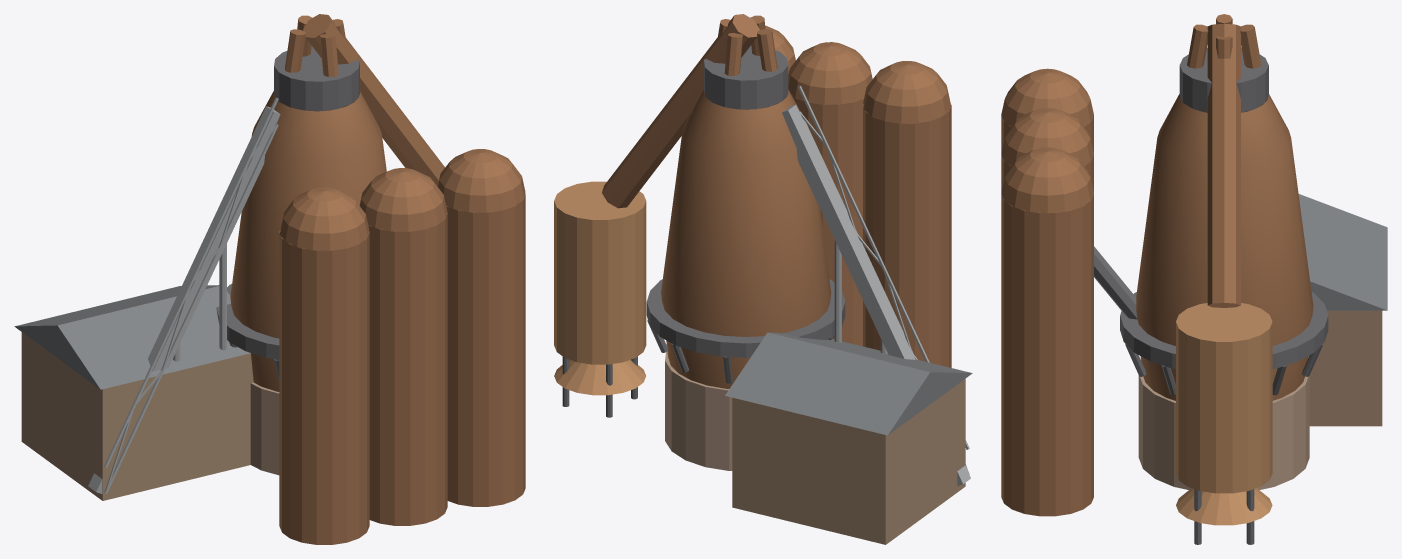
Rendered from BlastFurnace.glb.
The picture shows the model from 3 angles, left to right: view 1: azimuth 30°, elevation 25°; view 2: azimuth 150°, elevation 25°; view 3: azimuth 270°, elevation 25°; orthographic projection. The views are drawn at different scales.
Parts seen in each view (by area): view 1: Hot blast stove, Cast house, Hot blast stove.002, Hot blast stove.001, Furnace shaft, Cast house roof, Member.014, Beam, Stove dome, Stove dome.002, Stove dome.001, Throat (+7 smaller); view 2: Furnace shaft, Cast house, Hot blast stove, Dust catcher, Cast house roof, Beam, Hot blast stove.001, Member.014, Furnace hearth, Stove dome, Stove dome.001, Bustle pipe (+6 smaller); view 3: Hot blast stove.002, Furnace shaft, Dust catcher, Member.014, Cast house roof, Cast house, Furnace hearth, Stove dome.002, Stove dome.001, Stove dome, Bustle pipe, Throat (+4 smaller).
Part boxes in pixels (<box>): Hot blast stove: <box>279,229,369,544</box>; Cast house: <box>21,332,253,500</box>; Hot blast stove.002: <box>446,193,525,506</box>; Hot blast stove.001: <box>368,212,447,525</box>; Furnace shaft: <box>230,91,386,391</box>; Cast house roof: <box>14,285,250,389</box>; Member.014: <box>303,14,444,186</box>; Beam: <box>88,106,280,493</box>; Stove dome: <box>280,187,368,250</box>; Stove dome.002: <box>437,149,525,212</box>; Stove dome.001: <box>359,168,447,231</box>; Throat: <box>274,46,359,111</box>; Furnace shaft: <box>661,89,831,388</box>; Cast house: <box>732,379,965,544</box>; Hot blast stove: <box>863,103,951,367</box>; Dust catcher: <box>554,181,646,364</box>; Cast house roof: <box>725,332,972,435</box>; Beam: <box>782,104,970,485</box>; Hot blast stove.001: <box>792,95,863,346</box>; Member.014: <box>602,14,759,208</box>; Furnace hearth: <box>665,351,732,470</box>; Stove dome: <box>863,61,950,123</box>; Stove dome.001: <box>788,42,872,104</box>; Bustle pipe: <box>646,279,845,357</box>; Hot blast stove.002: <box>1001,194,1093,516</box>; Furnace shaft: <box>1136,94,1313,400</box>; Dust catcher: <box>1176,303,1272,493</box>; Member.014: <box>1207,23,1240,307</box>; Cast house roof: <box>1298,194,1387,310</box>; Cast house: <box>1307,310,1382,426</box>; Furnace hearth: <box>1138,375,1309,489</box>; Stove dome.002: <box>1001,147,1093,213</box>; Stove dome.001: <box>1001,108,1093,165</box>; Stove dome: <box>1001,68,1093,126</box>; Bustle pipe: <box>1120,292,1328,369</box>; Throat: <box>1179,47,1268,112</box>.
Bounding box in the file's own units: 26.45 × 26.1 × 20.8.
